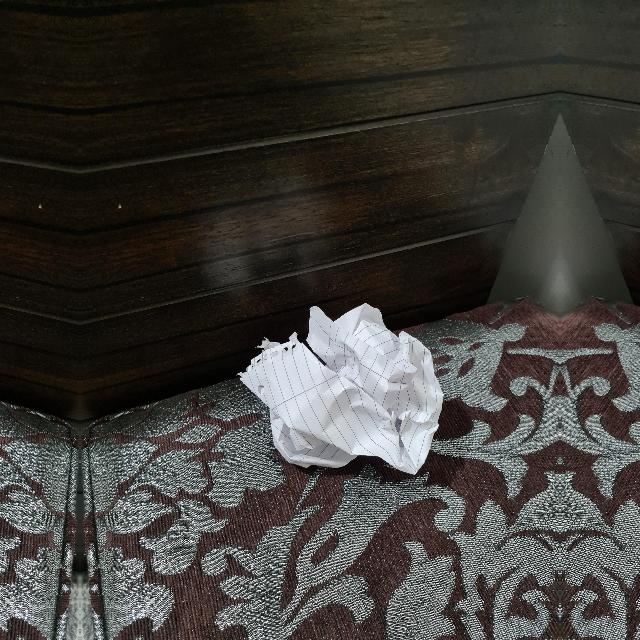paper: (228, 307, 444, 483)
